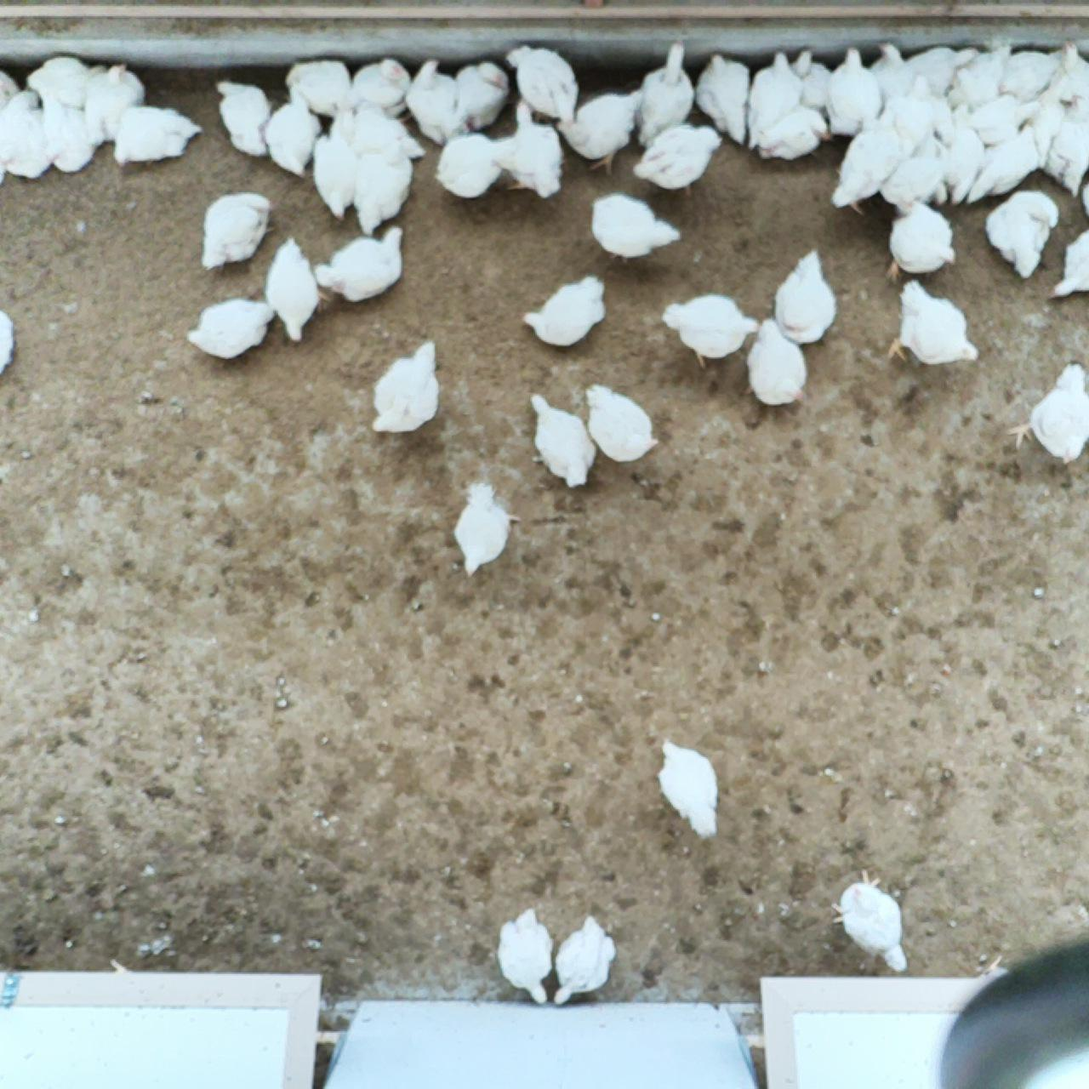chicken: (1003, 357, 1089, 468), (826, 865, 912, 975), (882, 275, 982, 369), (554, 87, 646, 178), (368, 339, 448, 440), (660, 291, 761, 371), (447, 478, 523, 581), (831, 106, 900, 217), (494, 98, 567, 202), (629, 37, 697, 148), (313, 224, 408, 302), (629, 120, 724, 198), (772, 245, 843, 349), (585, 191, 683, 266), (518, 272, 610, 351), (656, 737, 724, 843), (528, 390, 600, 490), (985, 188, 1062, 280), (582, 380, 662, 466), (881, 200, 960, 284), (352, 133, 416, 234), (507, 41, 582, 127), (743, 315, 810, 410), (184, 294, 277, 362), (264, 233, 320, 344), (495, 905, 556, 1006), (112, 103, 205, 169), (201, 191, 277, 271), (965, 123, 1038, 206), (553, 913, 618, 1006), (402, 56, 469, 146), (265, 81, 324, 182), (746, 51, 804, 153), (329, 104, 429, 162), (694, 50, 750, 150), (84, 60, 150, 144), (824, 44, 881, 140), (213, 75, 275, 162), (25, 51, 107, 114), (0, 87, 53, 183), (434, 129, 503, 200), (42, 91, 98, 177), (1044, 90, 1089, 197), (941, 102, 986, 207), (948, 43, 1014, 112), (283, 56, 355, 118), (311, 131, 359, 223), (757, 103, 831, 162), (877, 154, 948, 214), (454, 57, 510, 131), (351, 56, 413, 121), (998, 45, 1069, 101), (963, 95, 1039, 147), (1026, 78, 1067, 168), (906, 44, 981, 93), (910, 73, 958, 146), (1047, 225, 1089, 305), (882, 95, 932, 154), (790, 46, 833, 113), (912, 132, 950, 207), (869, 40, 915, 98), (1052, 36, 1089, 103), (0, 309, 19, 381)
